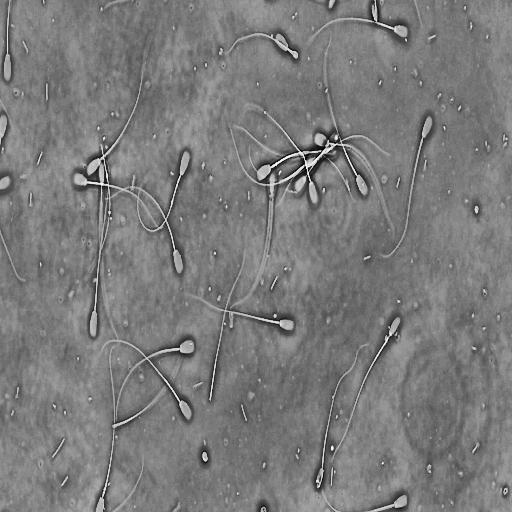dirt-particles: (201, 447, 209, 465), (473, 202, 480, 216)
distal-droplet: (171, 200, 174, 207)
folded-tail: (321, 344, 369, 469), (240, 102, 311, 181), (229, 33, 298, 60)
loose-tail: (207, 244, 248, 405)
normal: (331, 313, 402, 464), (111, 333, 200, 444), (374, 110, 436, 263), (98, 334, 198, 427), (314, 338, 374, 491), (321, 27, 371, 202), (228, 165, 279, 329), (314, 131, 395, 234), (240, 100, 318, 204), (99, 182, 185, 276), (85, 55, 146, 178), (225, 116, 321, 188), (180, 288, 300, 336), (136, 145, 193, 236), (87, 156, 112, 342), (257, 150, 353, 197), (304, 13, 410, 49), (212, 28, 301, 65), (2, 0, 13, 85)
